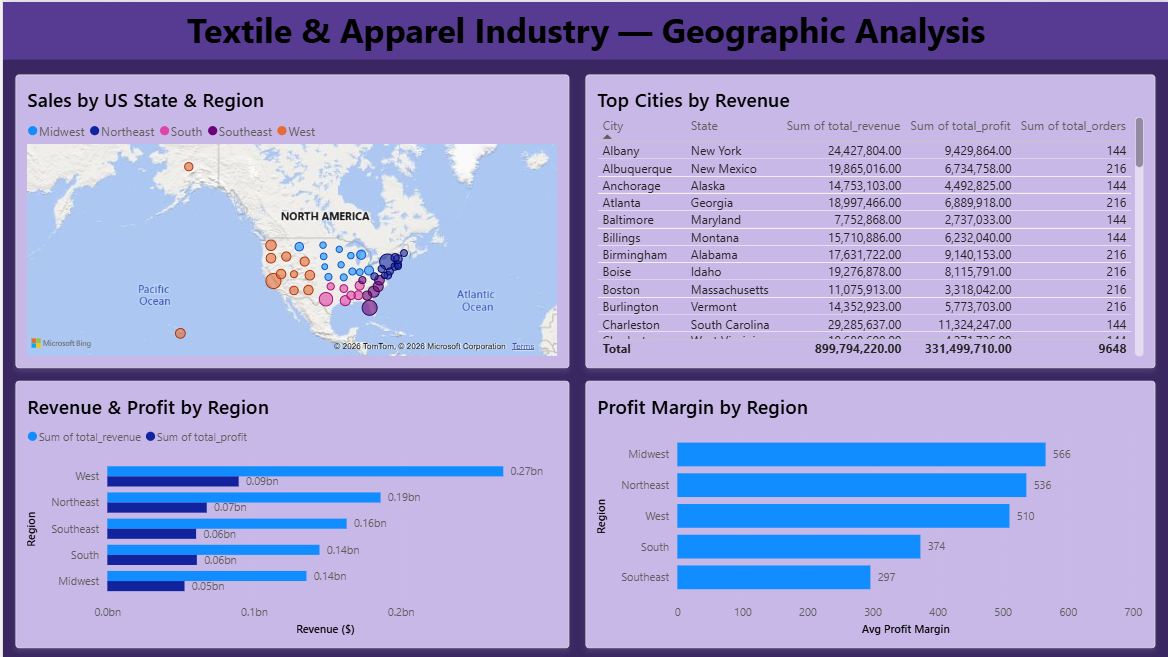

Layout of this report page (visuals, bound fields, positions):
{"tool":"powerbi","page":{"name":"Geographic Analysis","canvas":[1280,720],"ordinal":2},"visuals":[{"type":"map","title":" Sales by US State & Region","fields":{"Category":["vw_region_sales.State"],"Size":["Sum(vw_region_sales.total_revenue)"],"Series":["vw_region_sales.Region"]},"box":[13.7,79.6,607.9,322.5],"z":0},{"type":"clusteredBarChart","title":"Revenue & Profit by Region","fields":{"Category":["vw_region_sales.Region"],"Y":["Sum(vw_region_sales.total_revenue)","Sum(vw_region_sales.total_profit)"]},"box":[13.7,415.8,607.9,293.7],"z":1000},{"type":"tableEx","title":"Top Cities by Revenue","fields":{"Values":["vw_region_sales.City","vw_region_sales.State","Sum(vw_region_sales.total_revenue)","Sum(vw_region_sales.total_profit)","Sum(vw_region_sales.total_orders)"]},"box":[639.5,79.6,625.7,322.5],"z":2000},{"type":"clusteredBarChart","title":"Profit Margin by Region","fields":{"Category":["vw_region_sales.Region"],"Y":["Sum(vw_region_sales.avg_margin)"]},"box":[639.5,415.8,625.7,293.7],"z":3000},{"type":"textbox","box":[0,0,1280.3,63.1],"z":3001}]}

Visuals, with their boxes in screenshot pixels (x1, y1, x2, y2), scaled from the page's 1280x720 canvas onto the 1168x657 screenshot:
" Sales by US State & Region" map: BBox(13, 73, 567, 367)
"Revenue & Profit by Region" clusteredBarChart: BBox(13, 379, 567, 647)
"Top Cities by Revenue" tableEx: BBox(584, 73, 1154, 367)
"Profit Margin by Region" clusteredBarChart: BBox(584, 379, 1154, 647)
textbox: BBox(0, 0, 1167, 58)
